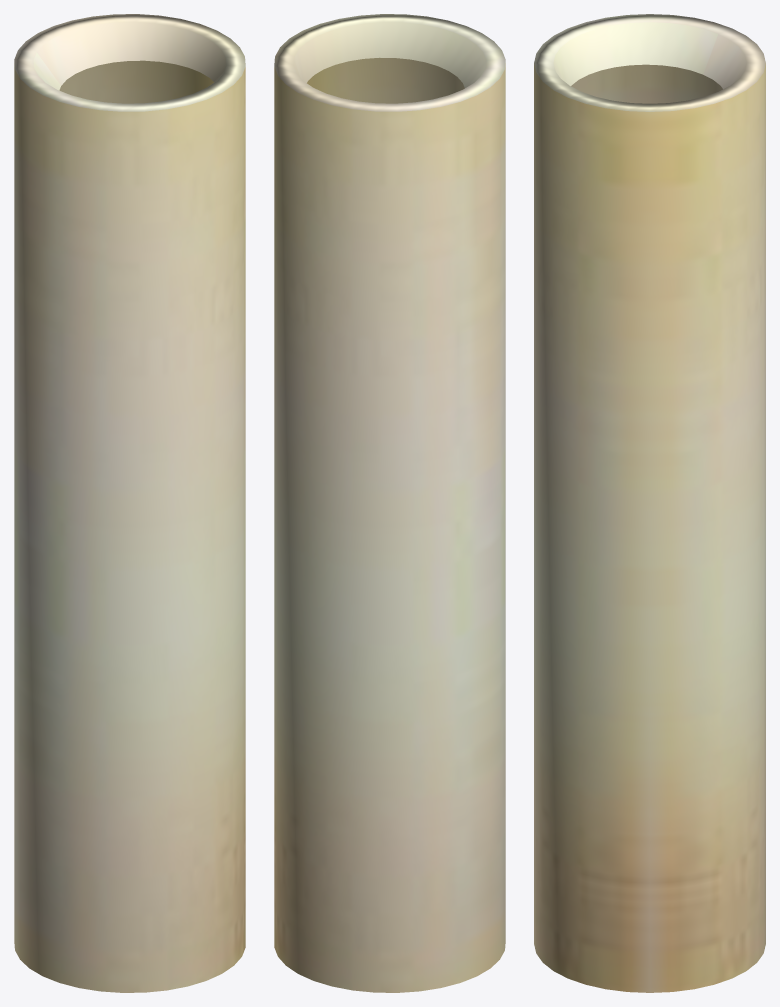
File: tallLamp_Cylinder.fbx
The picture shows the model from 3 angles, left to right: view 1: azimuth 30°, elevation 25°; view 2: azimuth 150°, elevation 25°; view 3: azimuth 270°, elevation 25°; orthographic projection.
Visible parts, largest first — view 1: Cylinder; view 2: Cylinder; view 3: Cylinder.
Boxes of the visible parts, bbox=[...] form: Cylinder: bbox=[14, 14, 245, 992]; Cylinder: bbox=[274, 14, 505, 992]; Cylinder: bbox=[534, 14, 765, 992].
Bounding box in the file's own units: 200 × 838 × 200.
